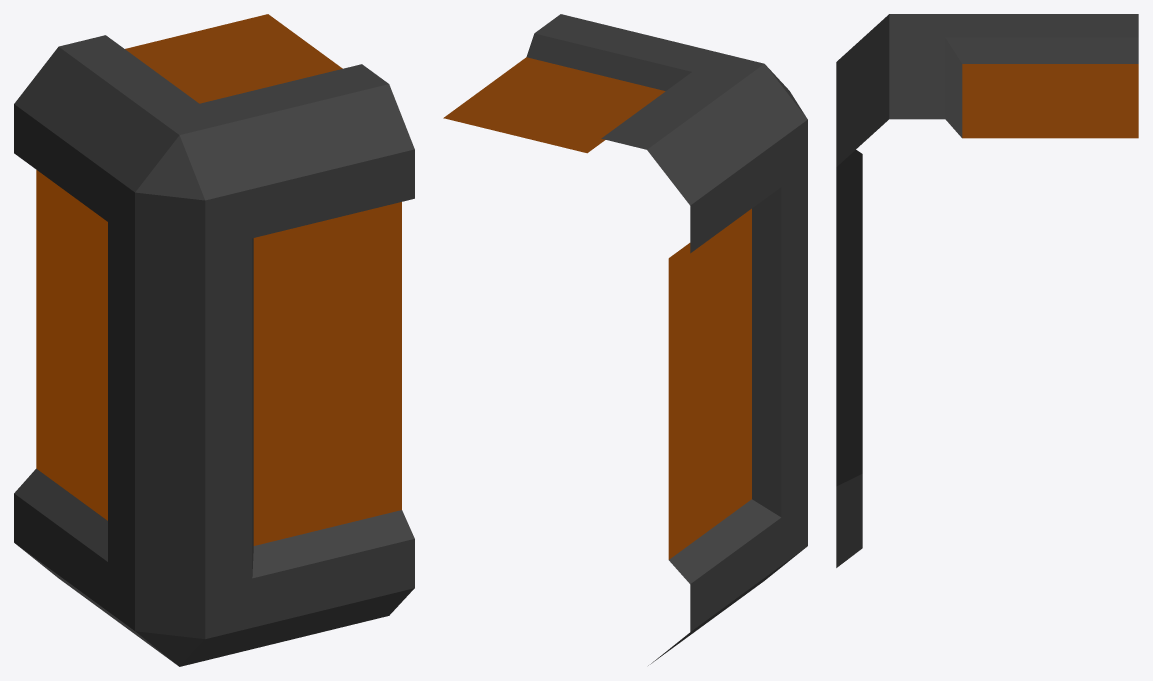
File: box-corner.gltf
3 views of the same model, side by side, from view 1: azimuth 30°, elevation 25°; view 2: azimuth 150°, elevation 25°; view 3: azimuth 270°, elevation 25° (orthographic). The views are drawn at different scales.
Parts seen in each view (by area): view 1: CornerFrameMesh, CornerFacesMesh; view 2: CornerFrameMesh, CornerFacesMesh; view 3: CornerFrameMesh, CornerFacesMesh.
Part boxes in pixels (left/top/right/bottom): CornerFrameMesh: left=14, top=35, right=414, bottom=666; CornerFacesMesh: left=36, top=14, right=401, bottom=545; CornerFrameMesh: left=526, top=14, right=807, bottom=665; CornerFacesMesh: left=443, top=57, right=751, bottom=559; CornerFrameMesh: left=836, top=14, right=1138, bottom=567; CornerFacesMesh: left=962, top=64, right=1138, bottom=138.
Bounding box in the file's own units: 0.5 × 1 × 0.5.
